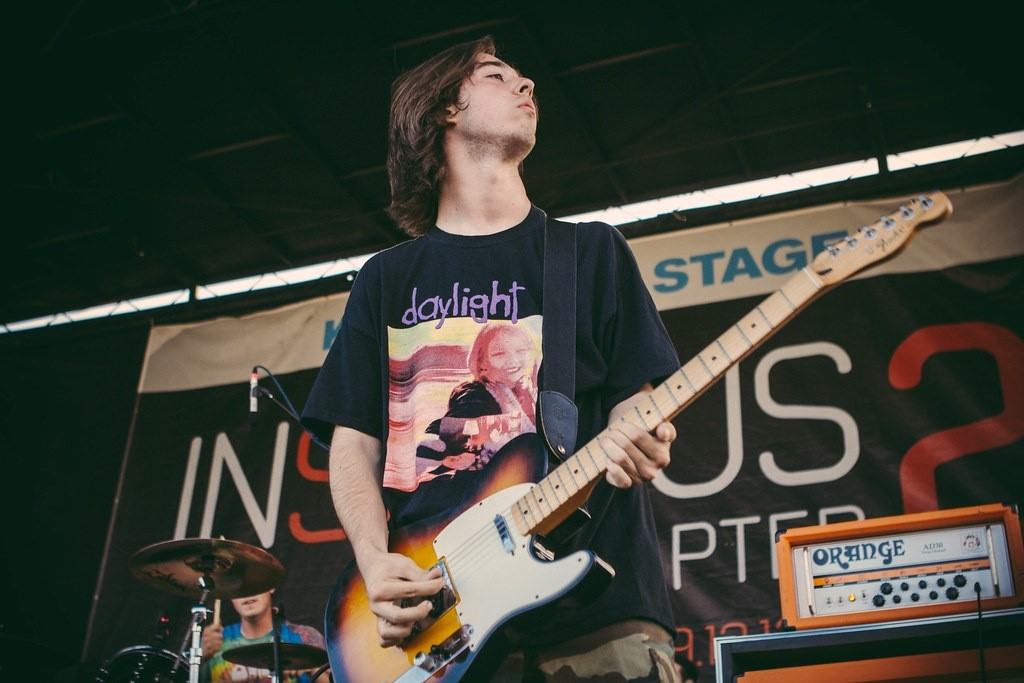face_no_mask: (389, 43, 538, 167)
